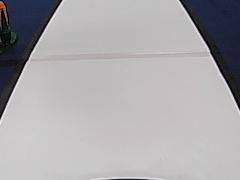corn: (0, 2, 19, 47)
